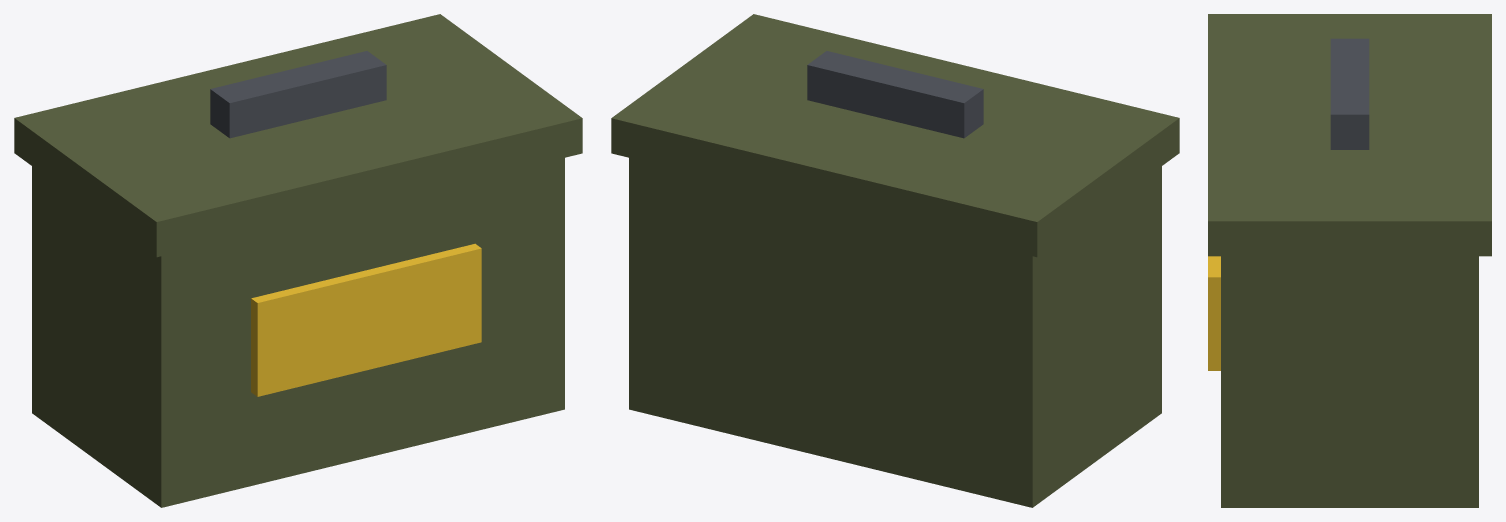
File: pk_ammo.glb
3 renders of one model, left to right at view 1: azimuth 30°, elevation 25°; view 2: azimuth 150°, elevation 25°; view 3: azimuth 270°, elevation 25°, orthographic.
Parts seen in each view (by area): view 1: pk_ammo; view 2: pk_ammo; view 3: pk_ammo.
Part boxes in pixels (box(x1,y1,x2,y2)): pk_ammo: box(14, 14, 582, 507); pk_ammo: box(611, 14, 1179, 507); pk_ammo: box(1208, 14, 1491, 507).
Size of the model in its own units: 0.38 by 0.285 by 0.22.
